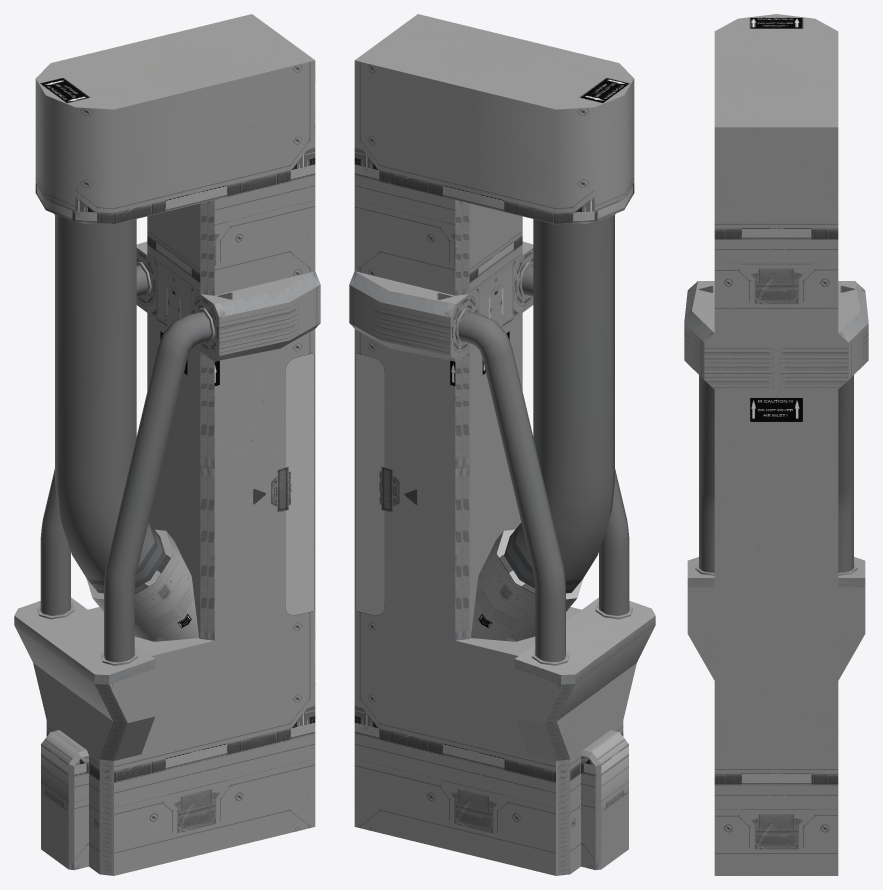
File: SM_PillarComp4.fbx
The picture shows the model from 3 angles, left to right: view 1: azimuth 30°, elevation 25°; view 2: azimuth 150°, elevation 25°; view 3: azimuth 270°, elevation 25°; orthographic projection. The views are drawn at different scales.
Visible parts, largest first — view 1: SM_PillarComp4_LOD0; view 2: SM_PillarComp4_LOD0; view 3: SM_PillarComp4_LOD0.
Part boxes in pixels (<box>): SM_PillarComp4_LOD0: <box>14,14,320,875</box>; SM_PillarComp4_LOD0: <box>349,14,655,875</box>; SM_PillarComp4_LOD0: <box>684,14,868,875</box>.
Size of the model in its own units: 130 by 89.38 by 400.
Materials: 3 (3 with a texture image).
